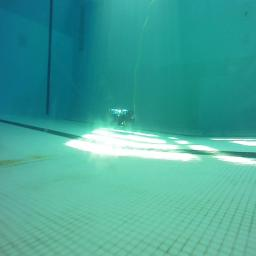front: (109, 108, 134, 128)
